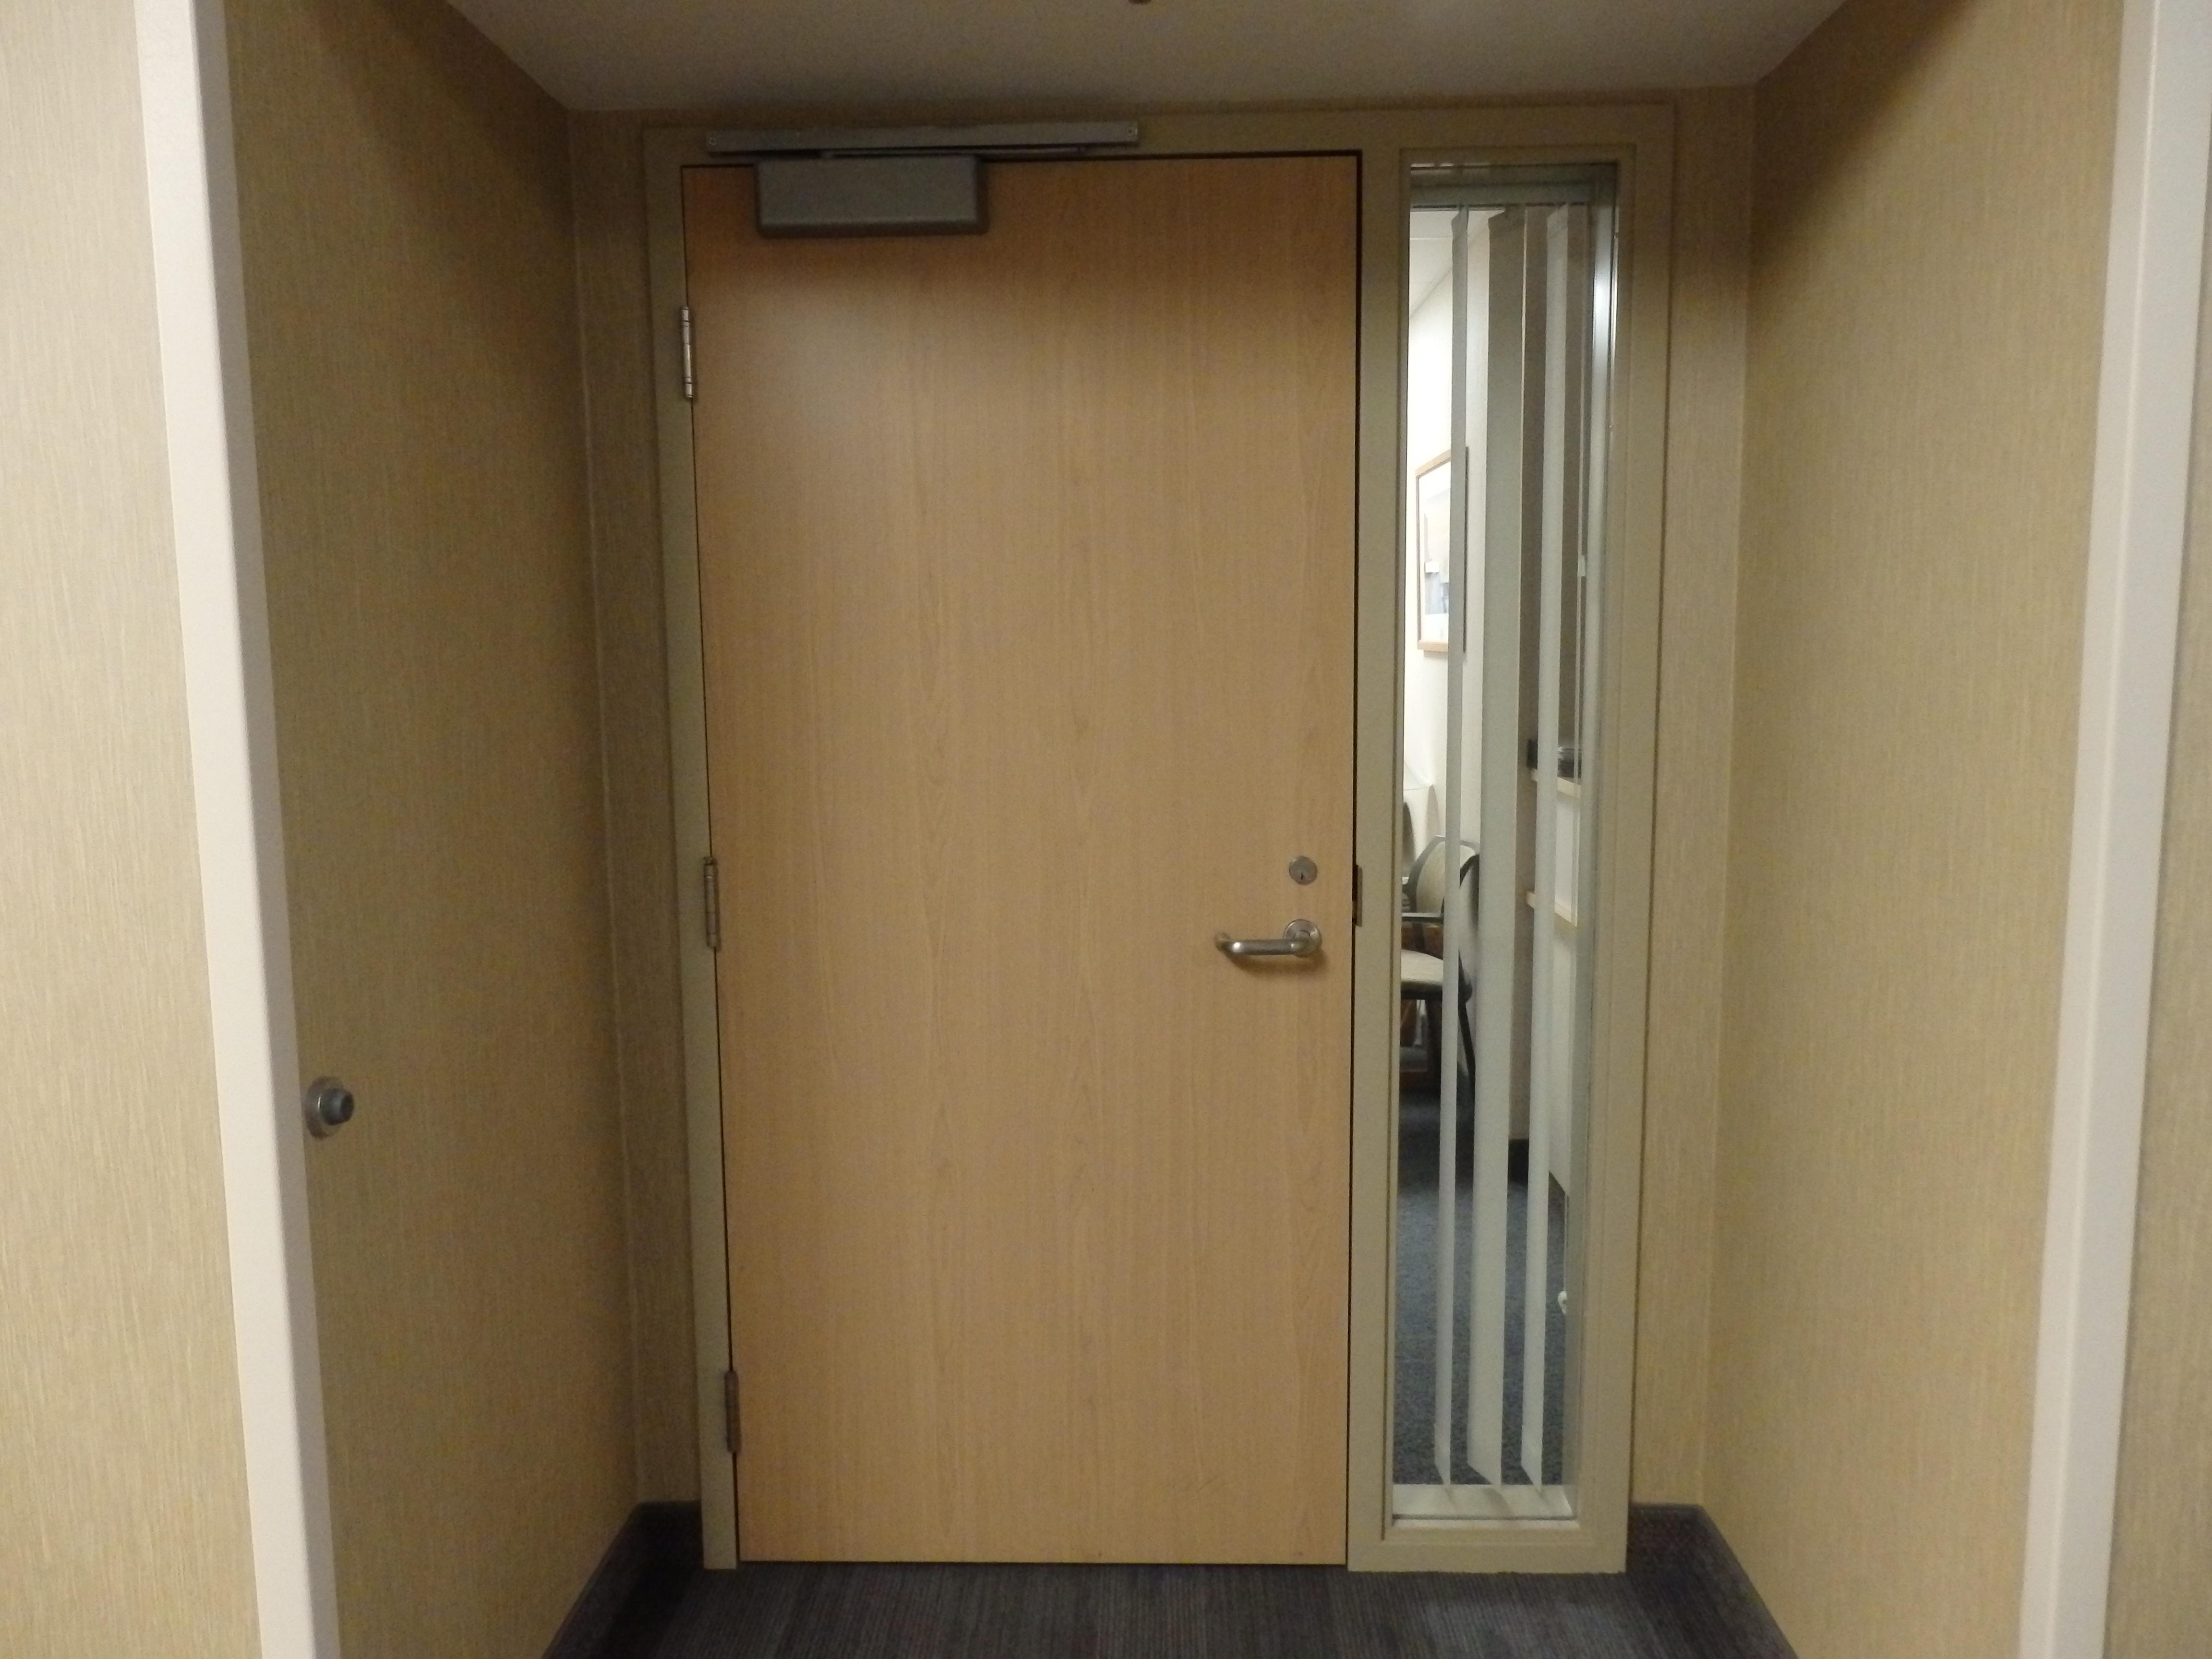door: (639, 108, 1409, 1575)
